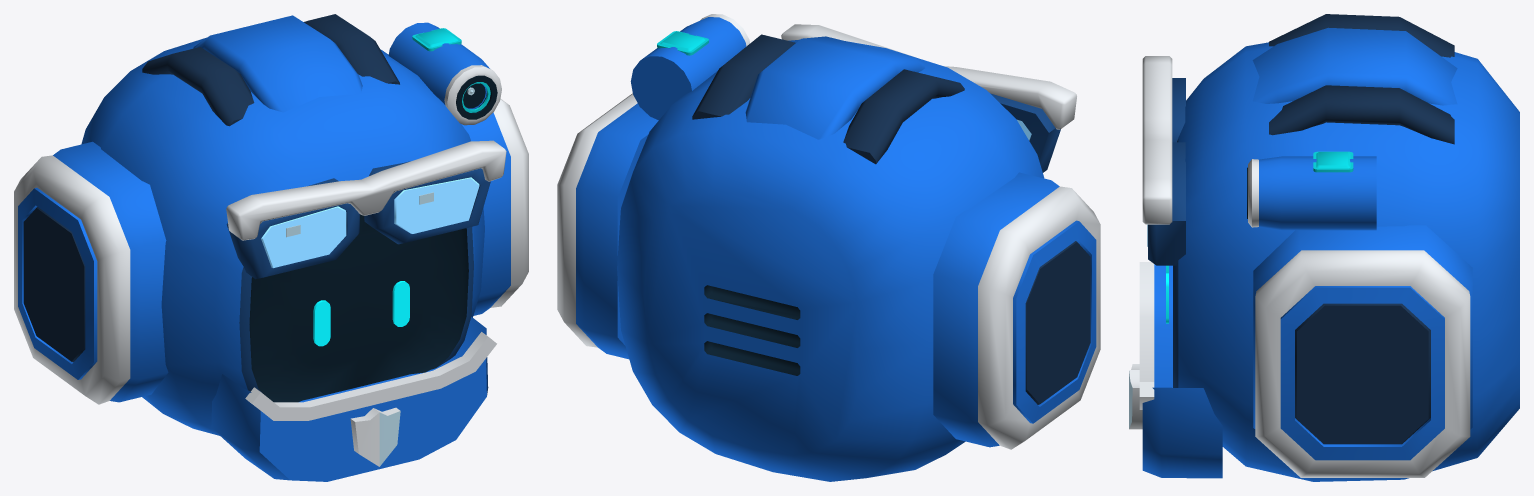
The model's file is copilot_security_v01.glb.
3 views of the same model, side by side, from view 1: azimuth 30°, elevation 25°; view 2: azimuth 150°, elevation 25°; view 3: azimuth 270°, elevation 25° (orthographic). The views are drawn at different scales.
Visible parts, largest first — view 1: security_model; view 2: security_model; view 3: security_model.
Part boxes in pixels (x1,y1,x2,y2): security_model: (14,14,528,481); security_model: (557,14,1100,481); security_model: (1129,14,1519,481).
Bounding box in the file's own units: 2.58 × 2.08 × 1.85.
2 materials, 2 textured.
